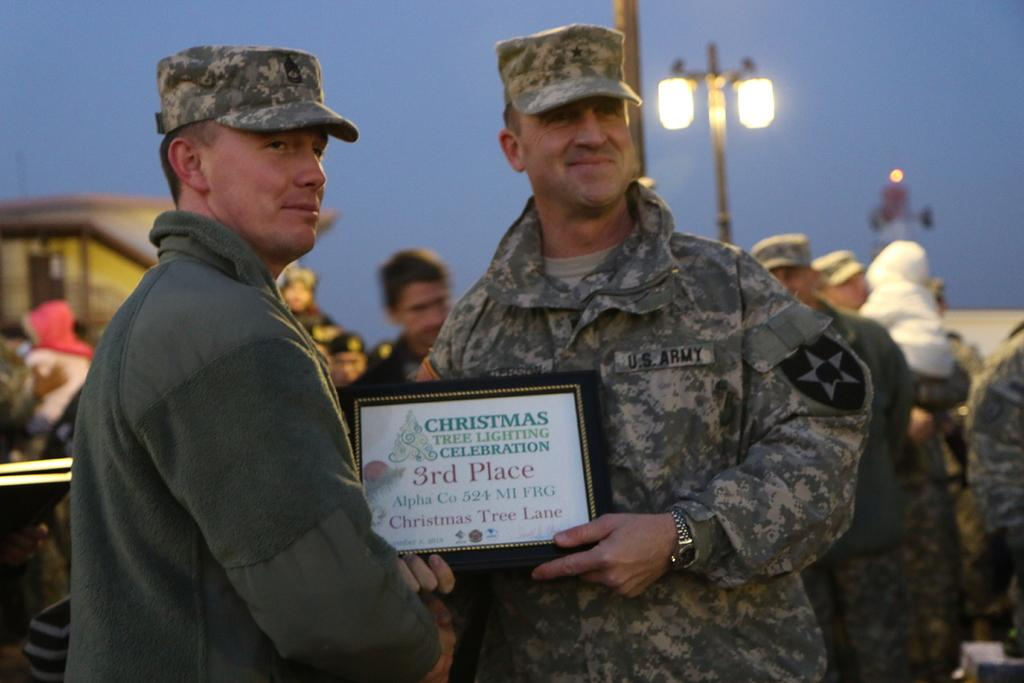Hat: (151, 40, 356, 140), (494, 22, 639, 117), (750, 232, 812, 272), (814, 250, 866, 283)
